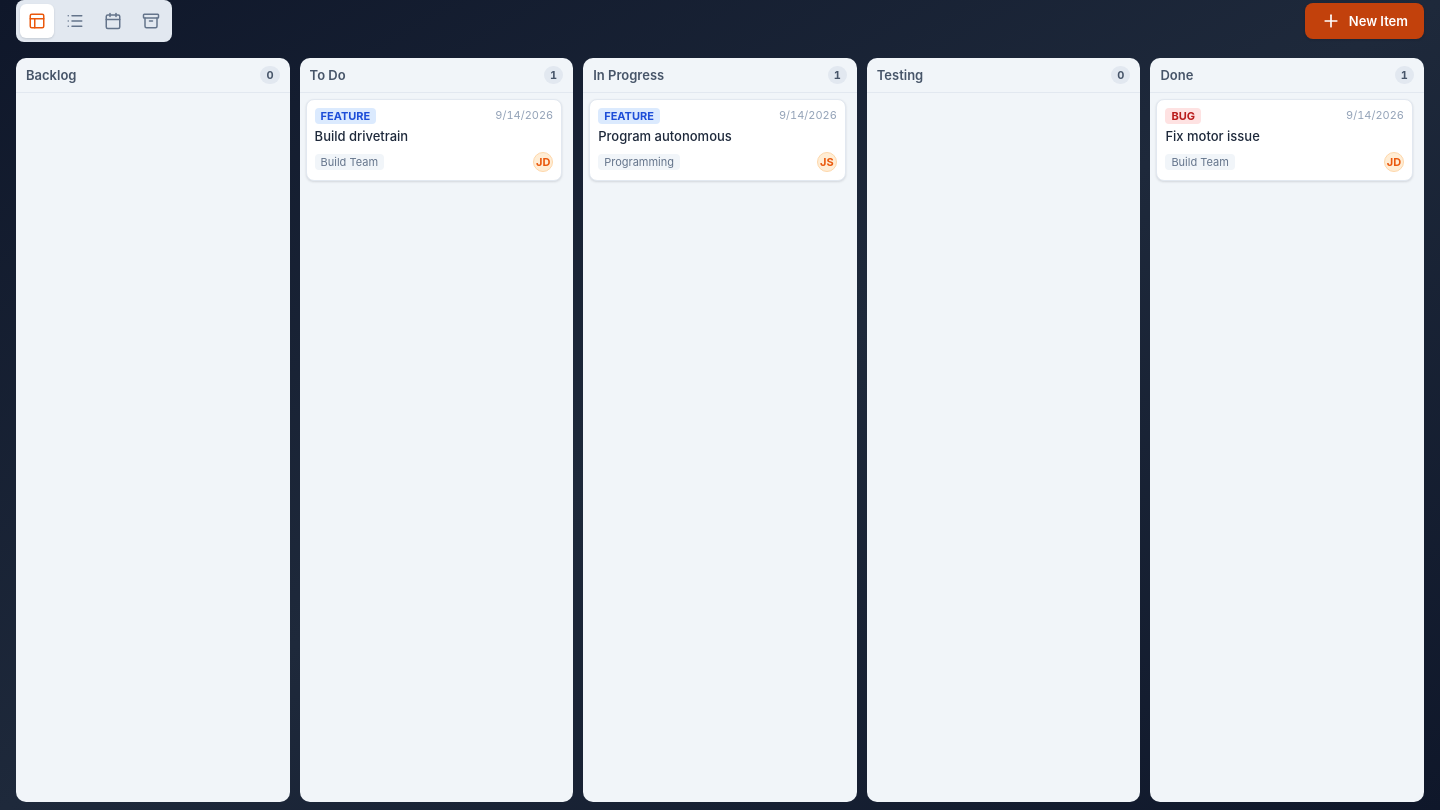
Scenario: SprintPlanning › Task Creation › opens the task form when New Item is clicked
The width and height of the screenshot is (1440, 810).
Click the button with test id "new-task-button": x=1364, y=21 [1305, 3, 1424, 39]
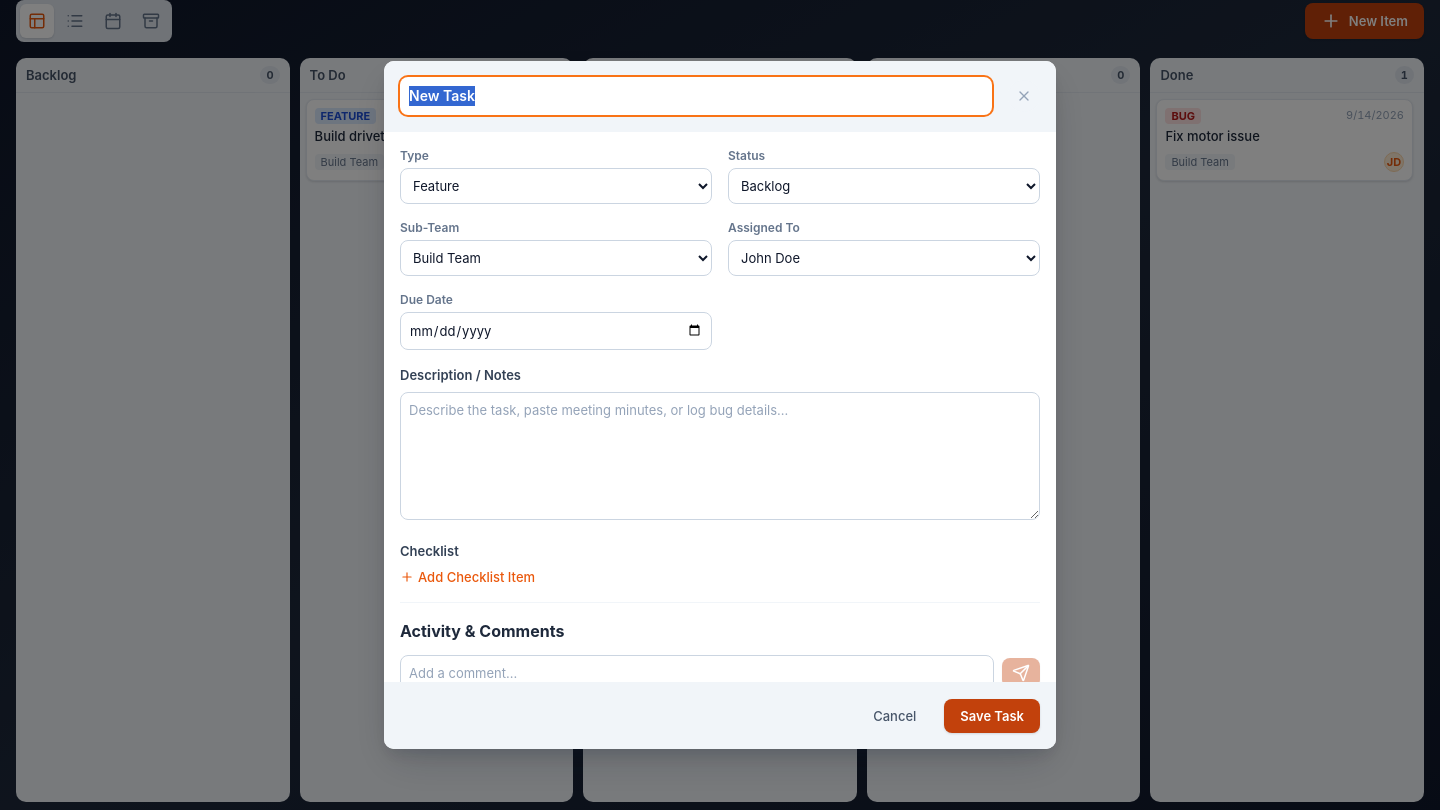
Result: the field with test id "task-title-input" is shown at [400, 77, 992, 115]
Result: the button with test id "save-task" is shown at [944, 699, 1040, 733]
